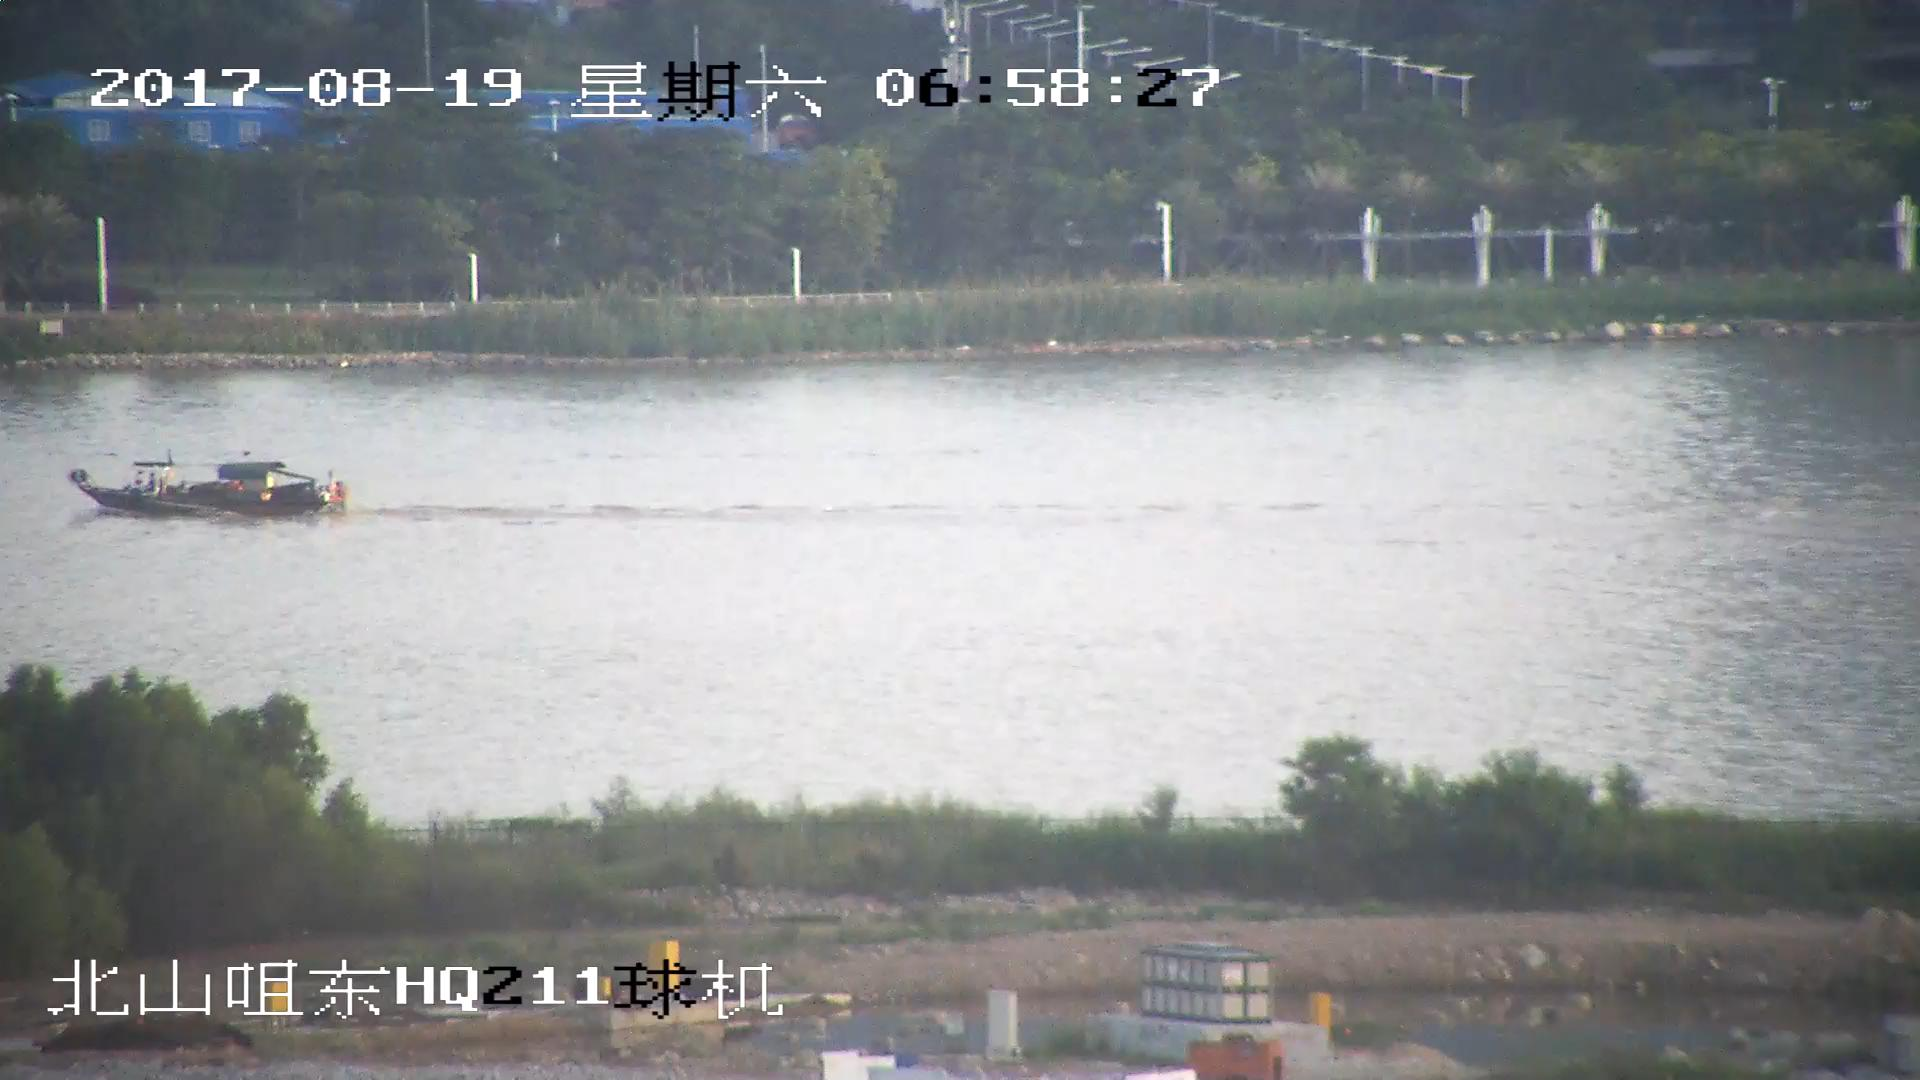fishing boat: (70, 453, 343, 521)
